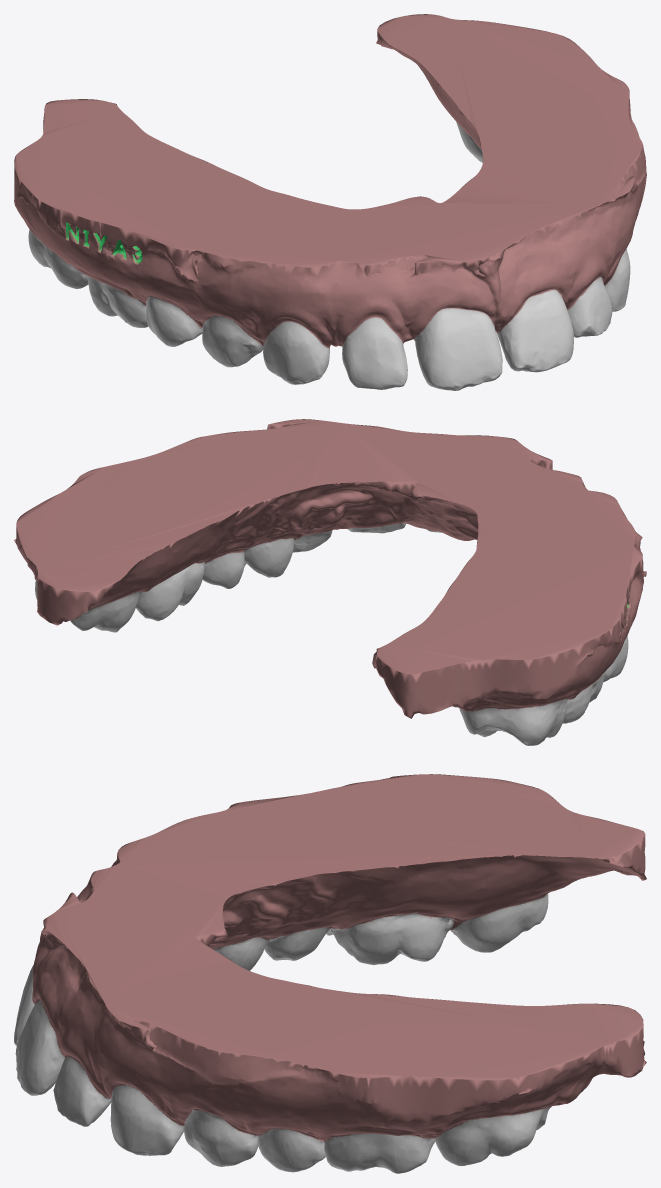
File: Niya Priority Upper jaw - 03 - Model.glb
3 renders of one model, top to bottom at view 1: azimuth 30°, elevation 25°; view 2: azimuth 150°, elevation 25°; view 3: azimuth 270°, elevation 25°, orthographic. The views are drawn at different scales.
Visible parts, largest first — view 1: Niya Priority Upper jaw - 03 - Model; view 2: Niya Priority Upper jaw - 03 - Model; view 3: Niya Priority Upper jaw - 03 - Model.
Part boxes in pixels (<box>): Niya Priority Upper jaw - 03 - Model: <box>14,14,646,390</box>; Niya Priority Upper jaw - 03 - Model: <box>14,419,646,745</box>; Niya Priority Upper jaw - 03 - Model: <box>14,774,646,1173</box>.
Size of the model in its own units: 66.36 by 13.7 by 57.94.
